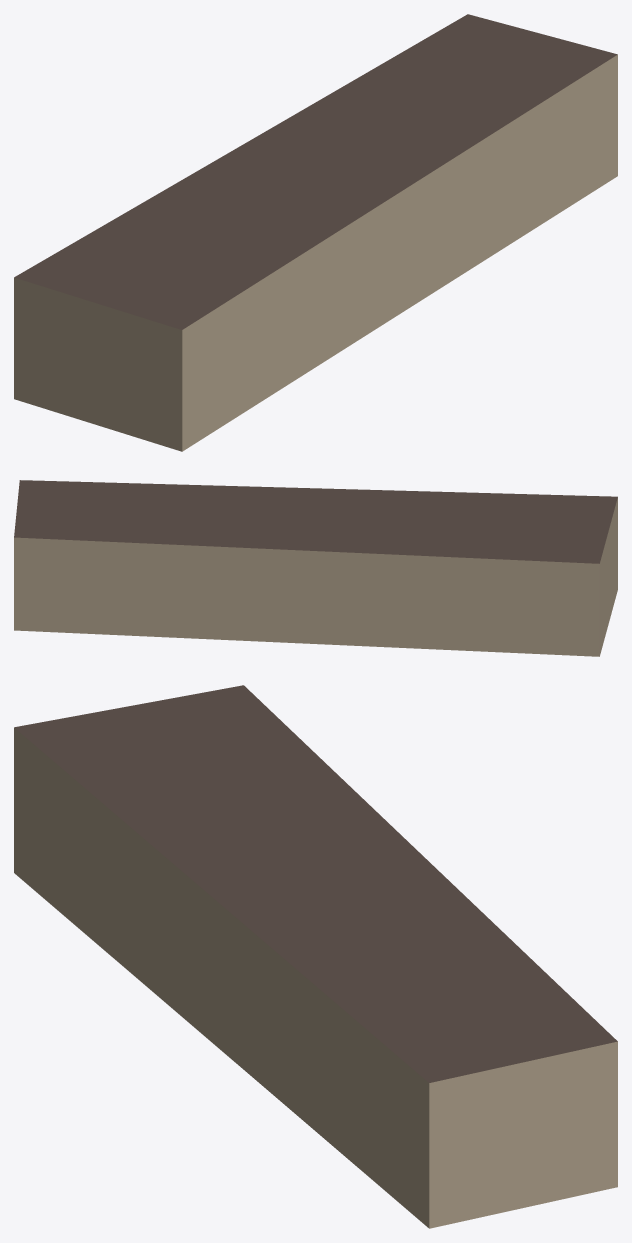
3 renders of one model, top to bottom at view 1: azimuth 30°, elevation 25°; view 2: azimuth 150°, elevation 25°; view 3: azimuth 270°, elevation 25°, orthographic. The views are drawn at different scales.
Visible parts, largest first — view 1: HP-w1512459549; view 2: HP-w1512459549; view 3: HP-w1512459549.
Part boxes in pixels (x1,y1,x2,y2): HP-w1512459549: (14, 14, 617, 451); HP-w1512459549: (14, 480, 617, 656); HP-w1512459549: (14, 685, 617, 1228).
Size of the model in its own units: 52.74 by 9 by 33.83.
